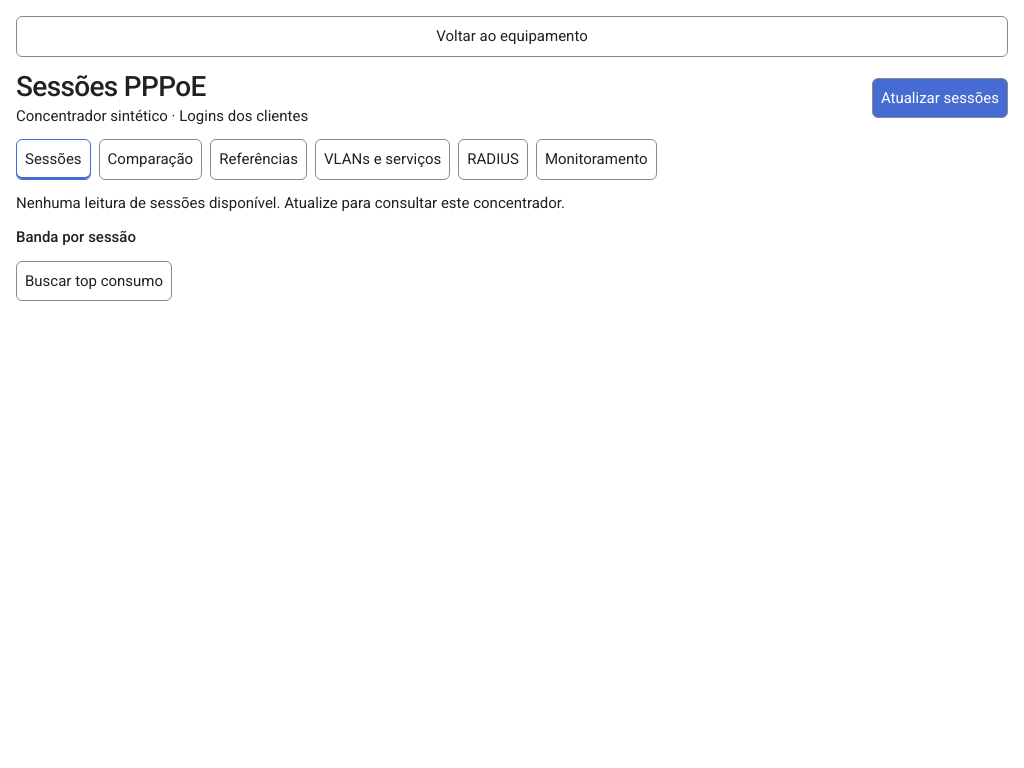
Test: makes new scopes available before session collection with one primary action and no references controls
Click the tab "VLANs e serviços" at [383, 160], box top-left (315, 139), bottom-right (450, 180)
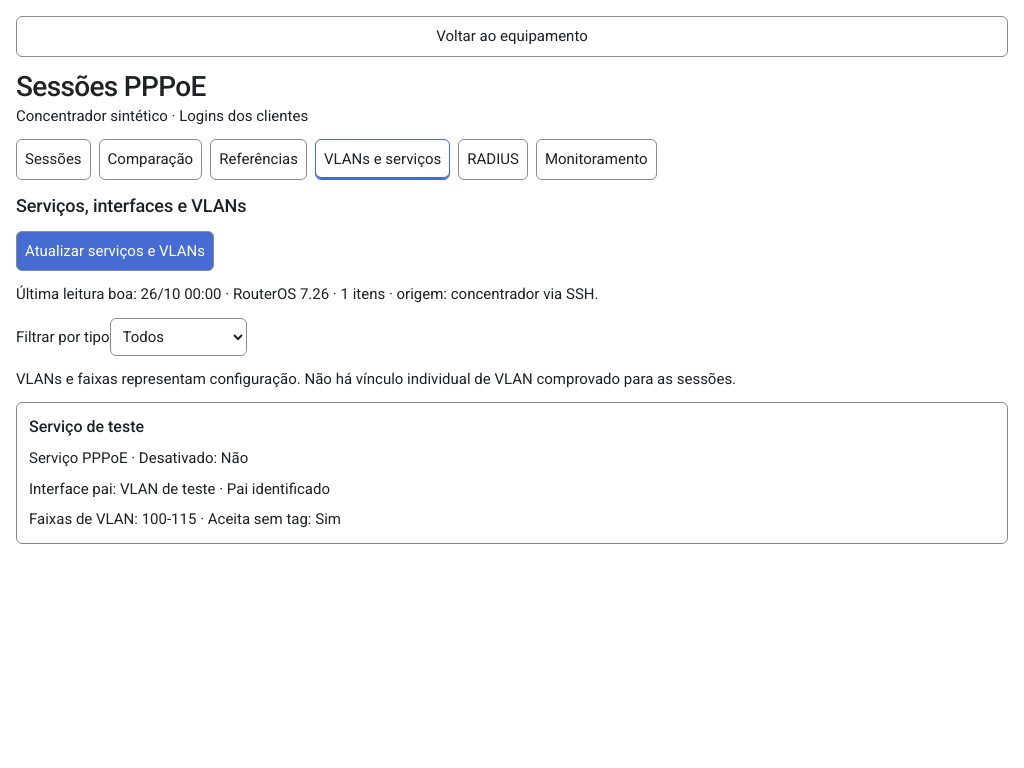
Expected: the number of buttons "Atualizar serviços e VLANs" is 1, top-left (16, 231), bottom-right (214, 271)
Expected: the heading "Serviço de teste" is shown, top-left (29, 417), bottom-right (144, 436)
Expected: the button "Atualizar sessões" is gone
